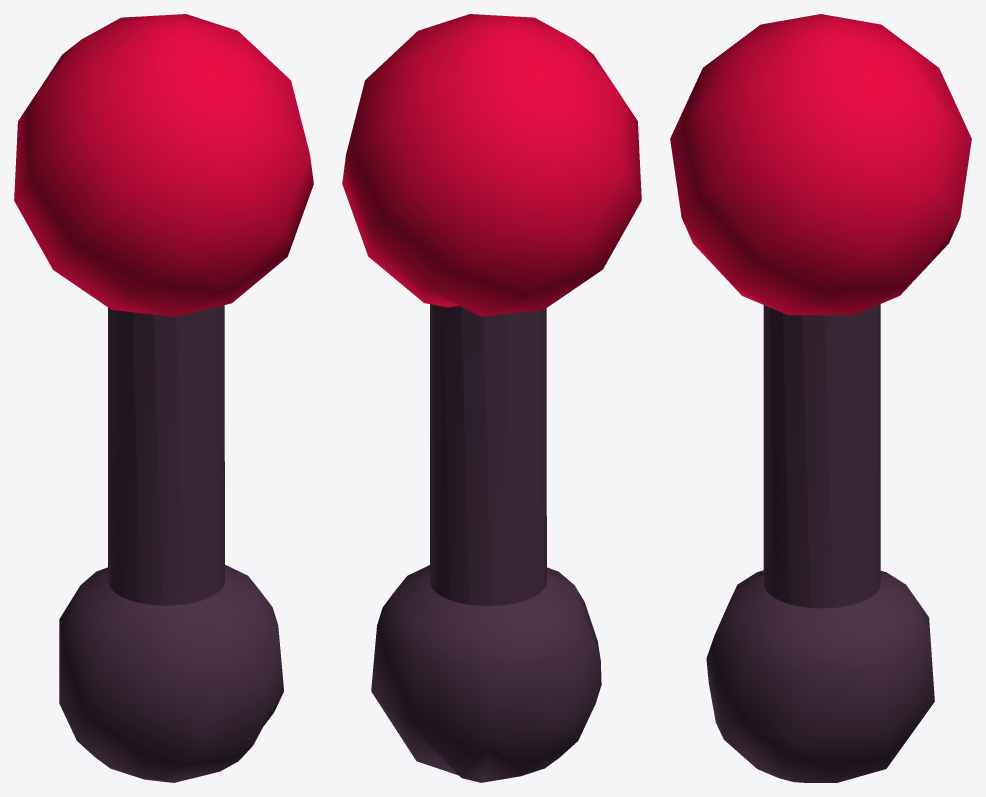
File: joystick.fbx
3 renders of one model, left to right at view 1: azimuth 30°, elevation 25°; view 2: azimuth 150°, elevation 25°; view 3: azimuth 270°, elevation 25°, orthographic.
Visible parts, largest first — view 1: Sphere.001; view 2: Sphere.001; view 3: Sphere.001.
Boxes of the visible parts, x1,y1,x2,y2 form: Sphere.001: (14, 14, 313, 782); Sphere.001: (342, 14, 641, 782); Sphere.001: (670, 14, 971, 782).
Size of the model in its own units: 23.68 by 64.15 by 23.68.
